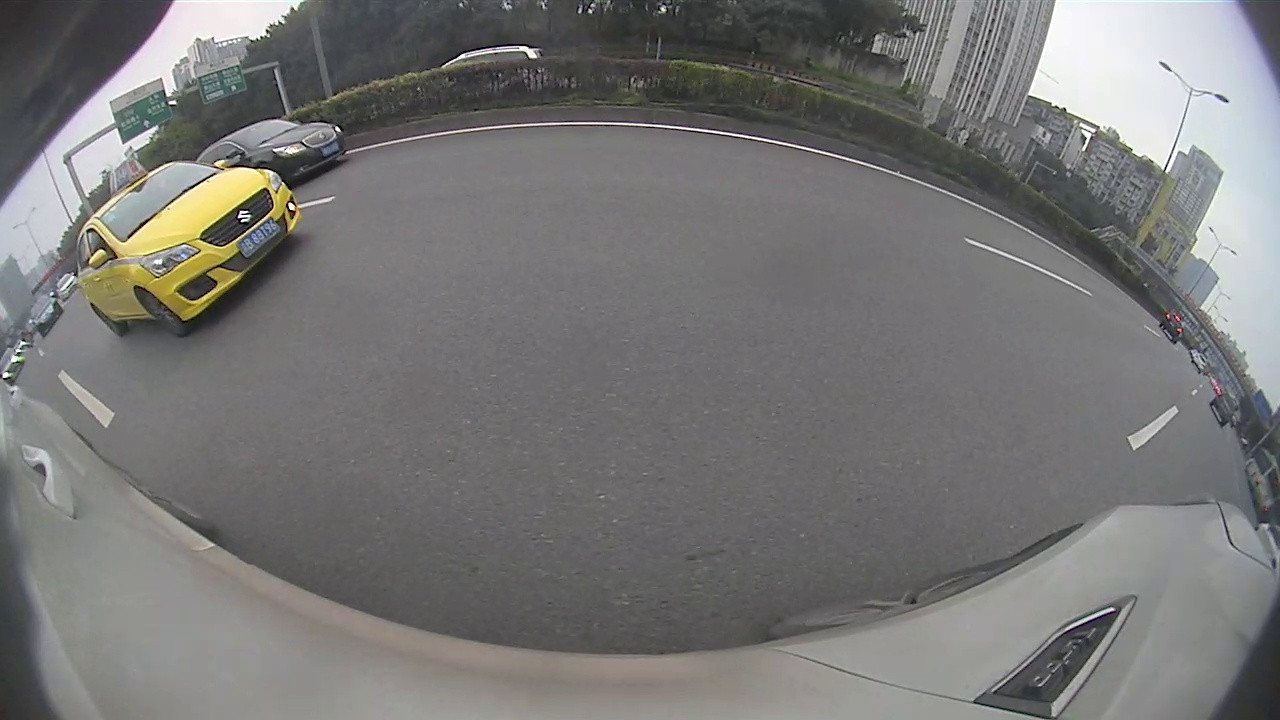car: (73, 156, 304, 341), (195, 116, 348, 190), (1206, 385, 1243, 430), (1158, 308, 1187, 347)
front: (137, 289, 193, 341)
rear: (92, 305, 133, 339)
